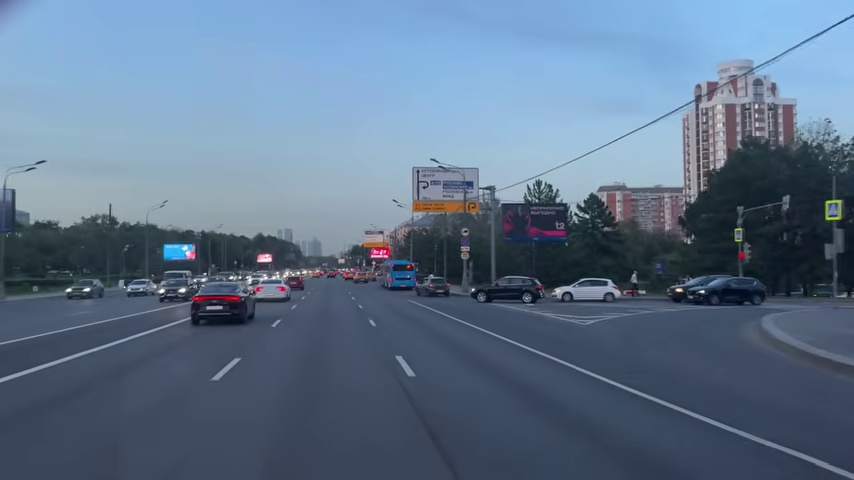apagada: (25, 156, 48, 174), (156, 197, 170, 211)
